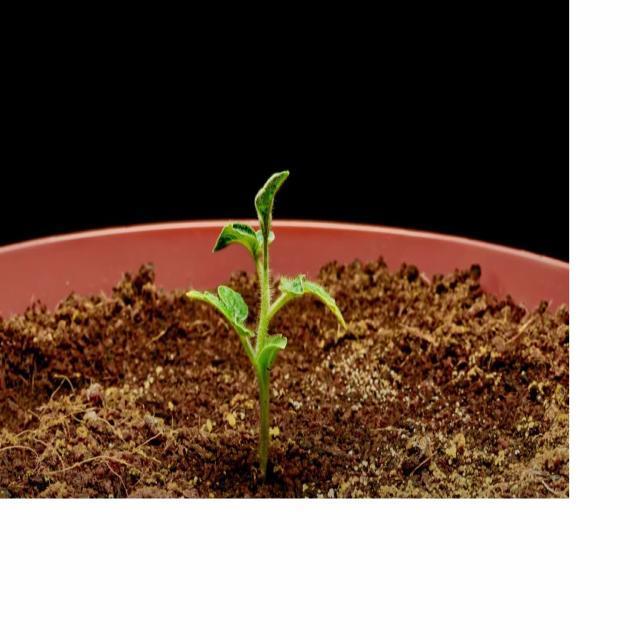tomato: (188, 170, 328, 484)
